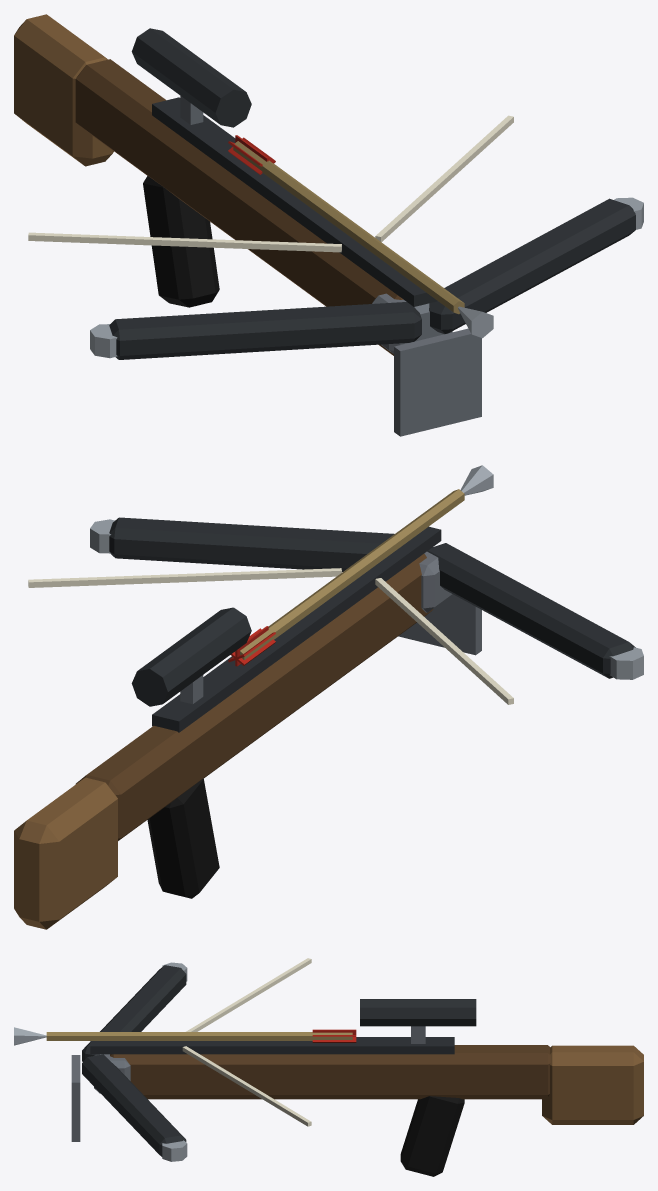
The model's file is crossbow.glb.
The picture shows the model from 3 angles, top to bottom: view 1: azimuth 30°, elevation 25°; view 2: azimuth 150°, elevation 25°; view 3: azimuth 270°, elevation 25°; orthographic projection. The views are drawn at different scales.
Visible parts, largest first — view 1: wpn_crossbow; view 2: wpn_crossbow; view 3: wpn_crossbow.
Part boxes in pixels (bbox=[...]): wpn_crossbow: bbox=[14, 14, 643, 436]; wpn_crossbow: bbox=[14, 465, 643, 929]; wpn_crossbow: bbox=[14, 958, 643, 1176].
Bounding box in the file's own units: 0.5446 × 0.2367 × 0.7785.
Materials: 1 (1 with a texture image).
